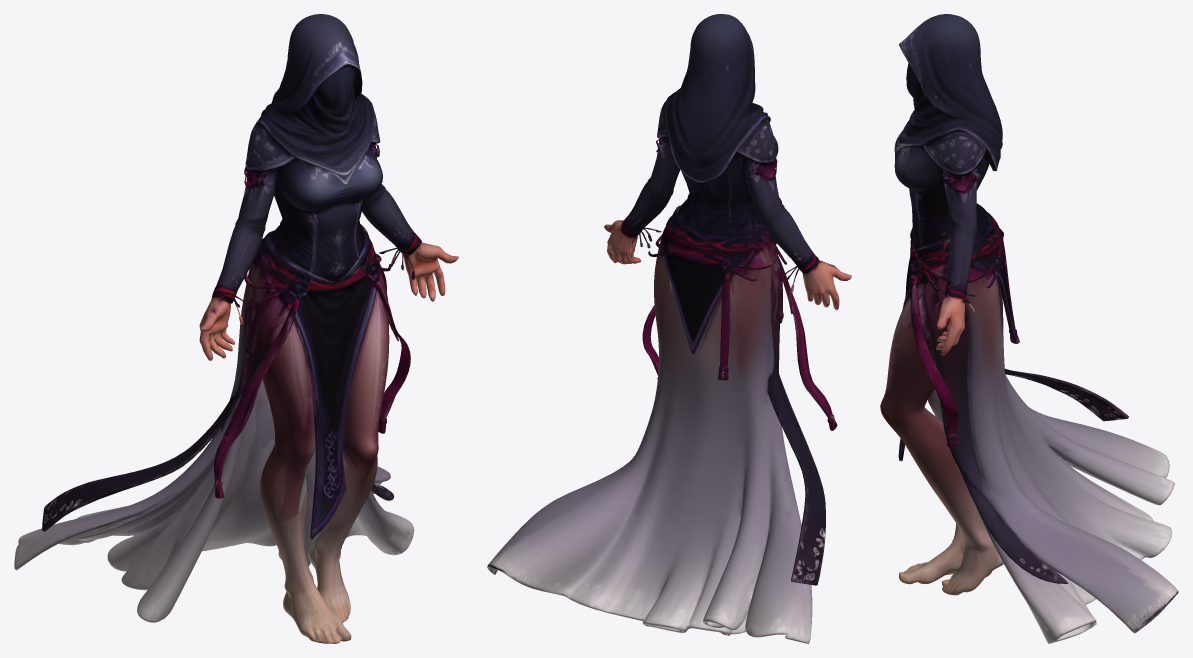
File: girl.glb
3 views of the same model, side by side, from view 1: azimuth 30°, elevation 25°; view 2: azimuth 150°, elevation 25°; view 3: azimuth 270°, elevation 25° (orthographic). The views are drawn at different scales.
Parts seen in each view (by area): view 1: material; view 2: material; view 3: material.
Boxes of the visible parts, x1,y1,x2,y2 form: material: (14,14,458,643); material: (487,14,851,643); material: (880,14,1178,643).
Size of the model in its own units: 0.6321 by 1.03 by 0.4926.
1 material, 1 textured.
